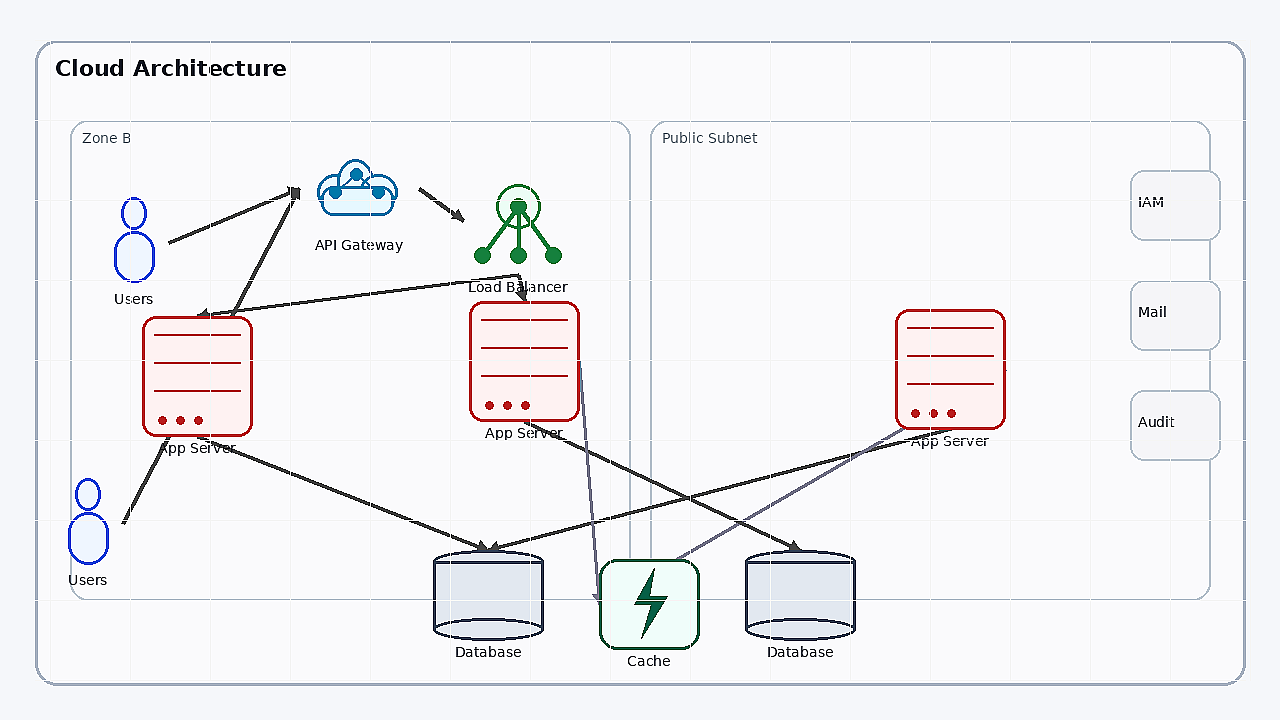API Gateway: (299, 143, 419, 233)
Application Server: (142, 316, 252, 436), (895, 309, 1005, 429), (469, 301, 579, 421)
Cache: (599, 559, 699, 649)
Database: (745, 550, 855, 640), (433, 550, 543, 640)
Load Balancer: (463, 165, 573, 275)
User: (53, 478, 123, 568), (99, 197, 169, 287)
